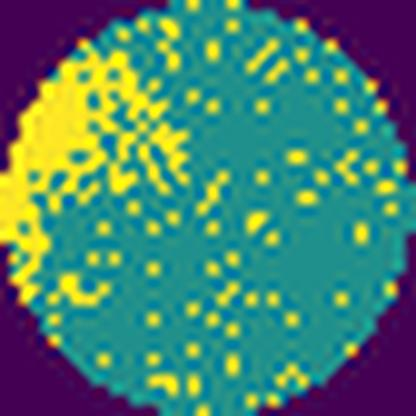Edge-Loc: (0, 39, 173, 294)
